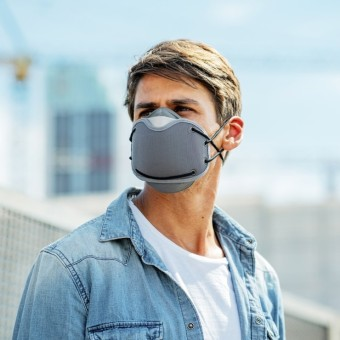mask: (130, 107, 211, 193)
